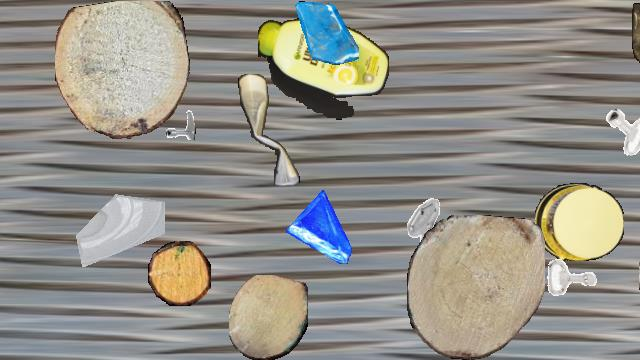glass: (72, 174, 164, 266), (286, 190, 360, 264), (295, 1, 359, 65)
metal: (541, 247, 603, 309), (393, 196, 453, 256), (603, 107, 640, 155), (154, 98, 196, 140)
plastic: (258, 18, 388, 120), (238, 74, 300, 186), (535, 183, 623, 261), (632, 1, 640, 71)
wood: (407, 215, 545, 359), (55, 1, 189, 139), (229, 275, 307, 359), (148, 241, 210, 305), (639, 243, 640, 313)
